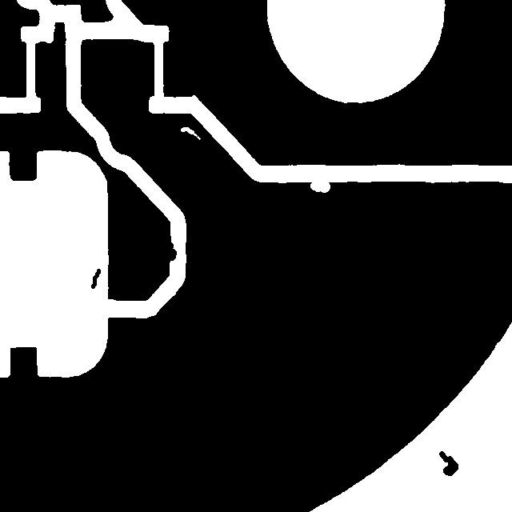copper: (431, 443, 466, 483), (83, 261, 108, 296)
mousebite: (302, 173, 338, 200)
pin-hole: (173, 119, 208, 147)
spur: (157, 234, 184, 268)
